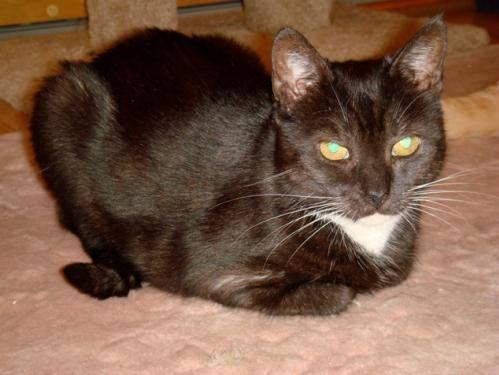cat: (30, 17, 446, 313)
